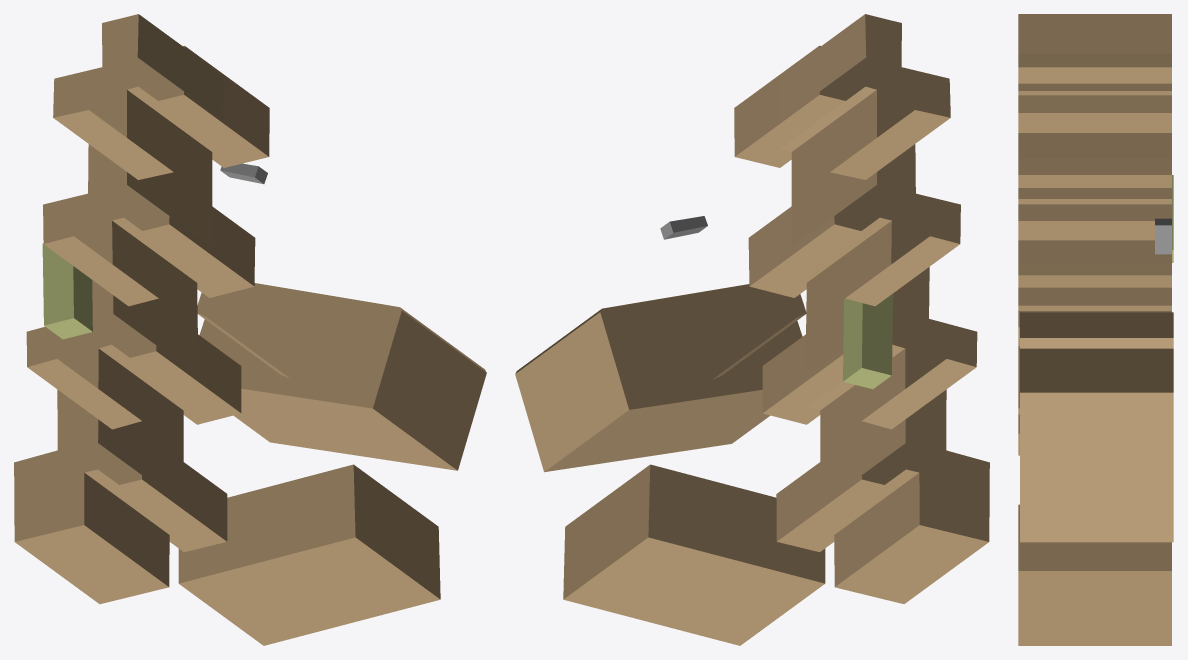
The picture shows the model from 3 angles, left to right: view 1: azimuth 30°, elevation 25°; view 2: azimuth 150°, elevation 25°; view 3: azimuth 270°, elevation 25°; orthographic projection. The views are drawn at different scales.
Visible parts, largest first — view 1: 0_0_3_1_3_1_2_2; view 2: 0_0_3_1_3_1_2_2; view 3: 0_0_3_1_3_1_2_2.
Part boxes in pixels (box(x1,y1,x2,y2)): 0_0_3_1_3_1_2_2: box(14, 14, 486, 645); 0_0_3_1_3_1_2_2: box(515, 14, 989, 645); 0_0_3_1_3_1_2_2: box(1018, 14, 1173, 645).
Bounding box in the file's own units: 71.2 × 101 × 27.3.
